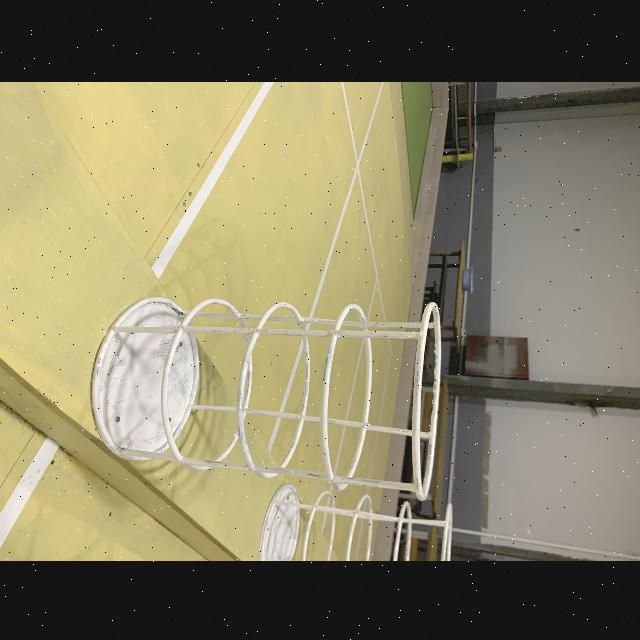S: (89, 294, 443, 500), (257, 484, 455, 560)
